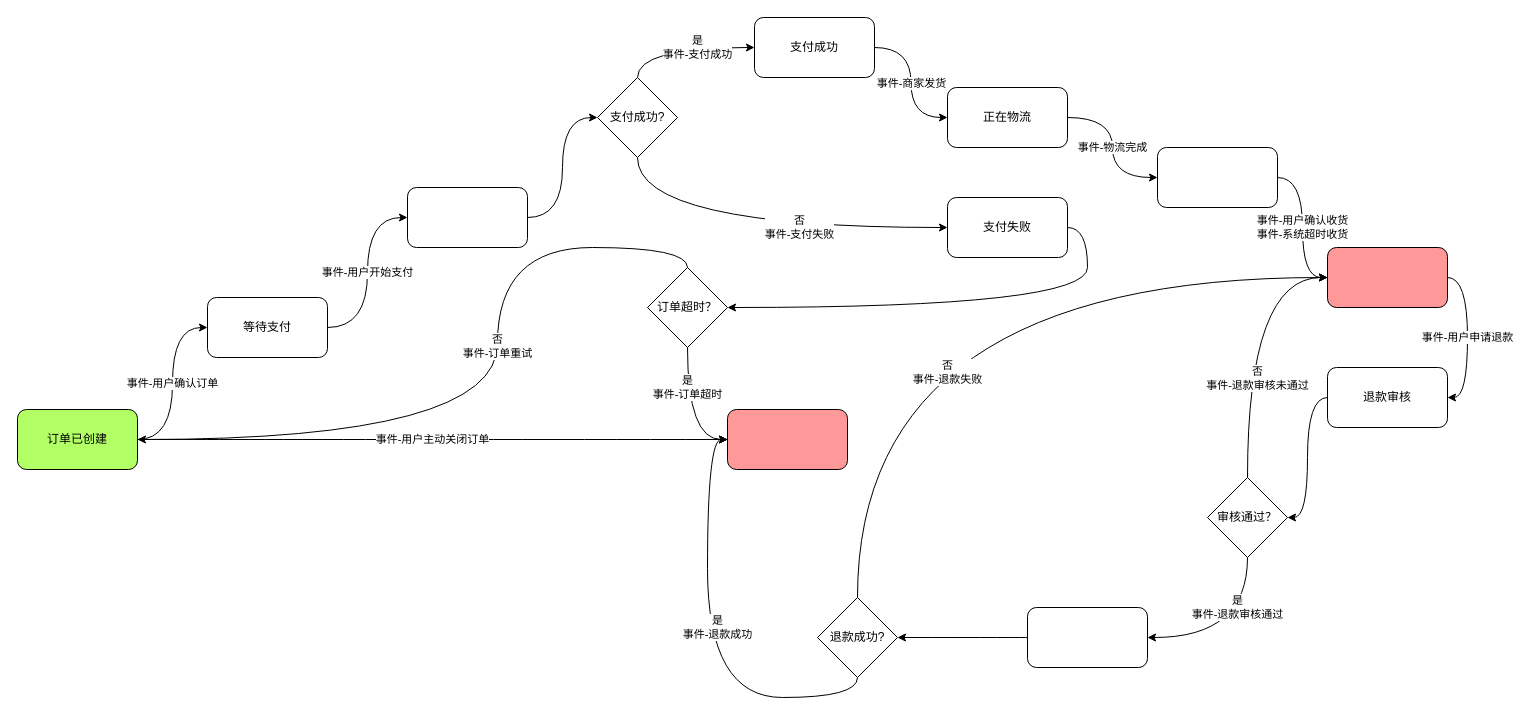
Some shapes in this 1531 by 715 pixel diagram are drawn without their labels. The centre of each missing label's shape, as x and y in pixels:
"正在支付" belongs at point 467,217.
"正在退款" belongs at point 1087,637.
"物流完成" belongs at point 1217,177.
"订单关闭" belongs at point 787,439.
"订单完成" belongs at point 1387,277.
